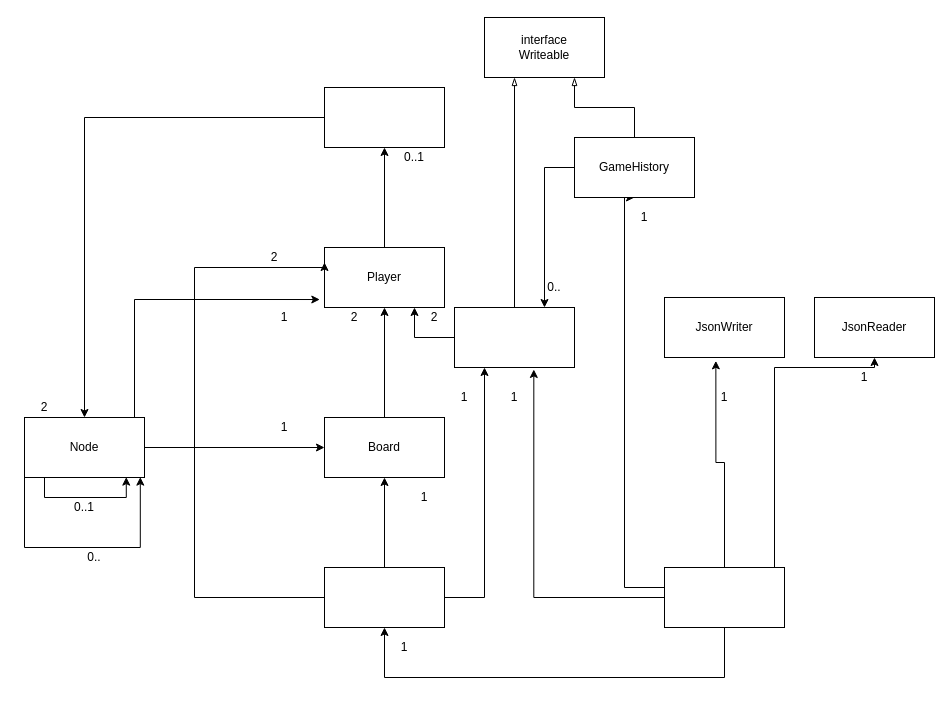
This 952x703 diagram has some shape labels left out. Each missing label, with the centre of its shape:
"Game" goes at (384,597).
"MoveHistory" goes at (514,337).
"Othello" goes at (724,597).
"Tree" goes at (384,117).
